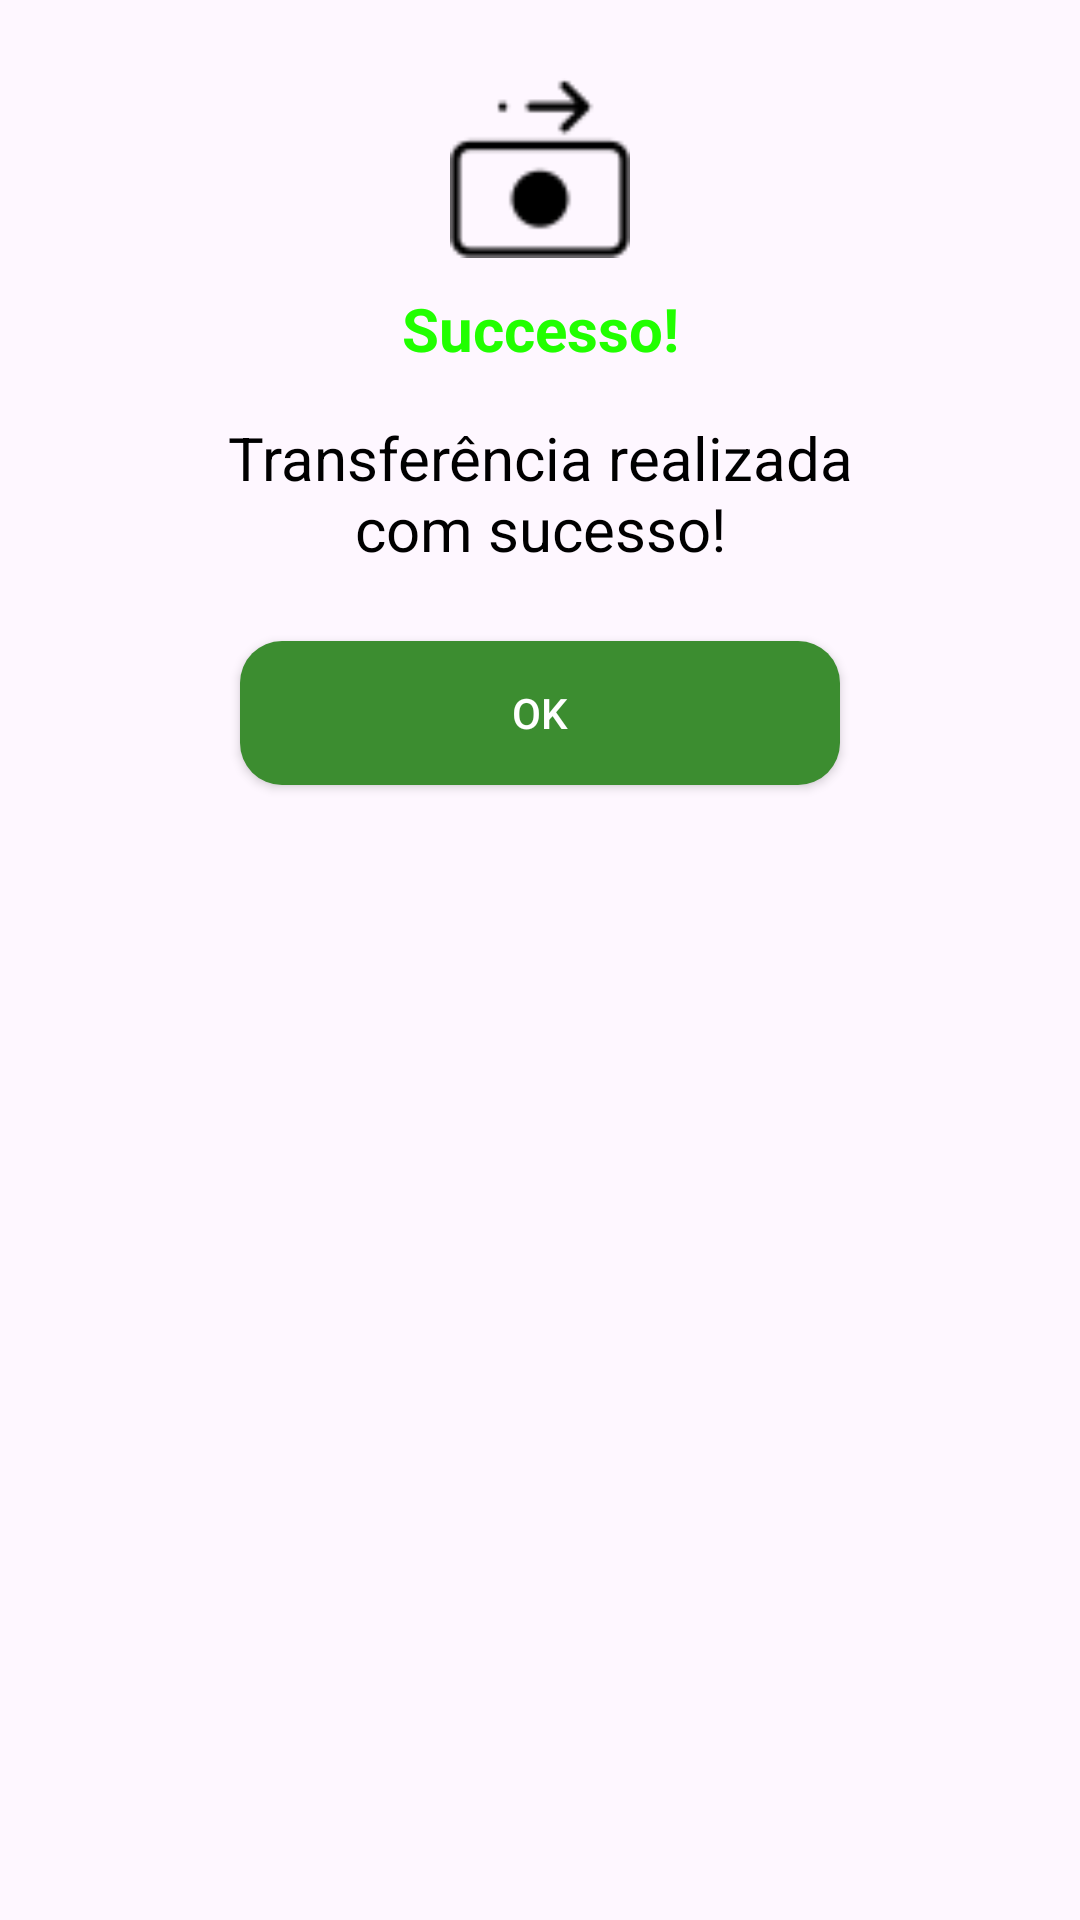

Icons on this 1080w x 1920h Android screen, each with the point to tap as (x,y):
sucesso transferencia: (540,169)
